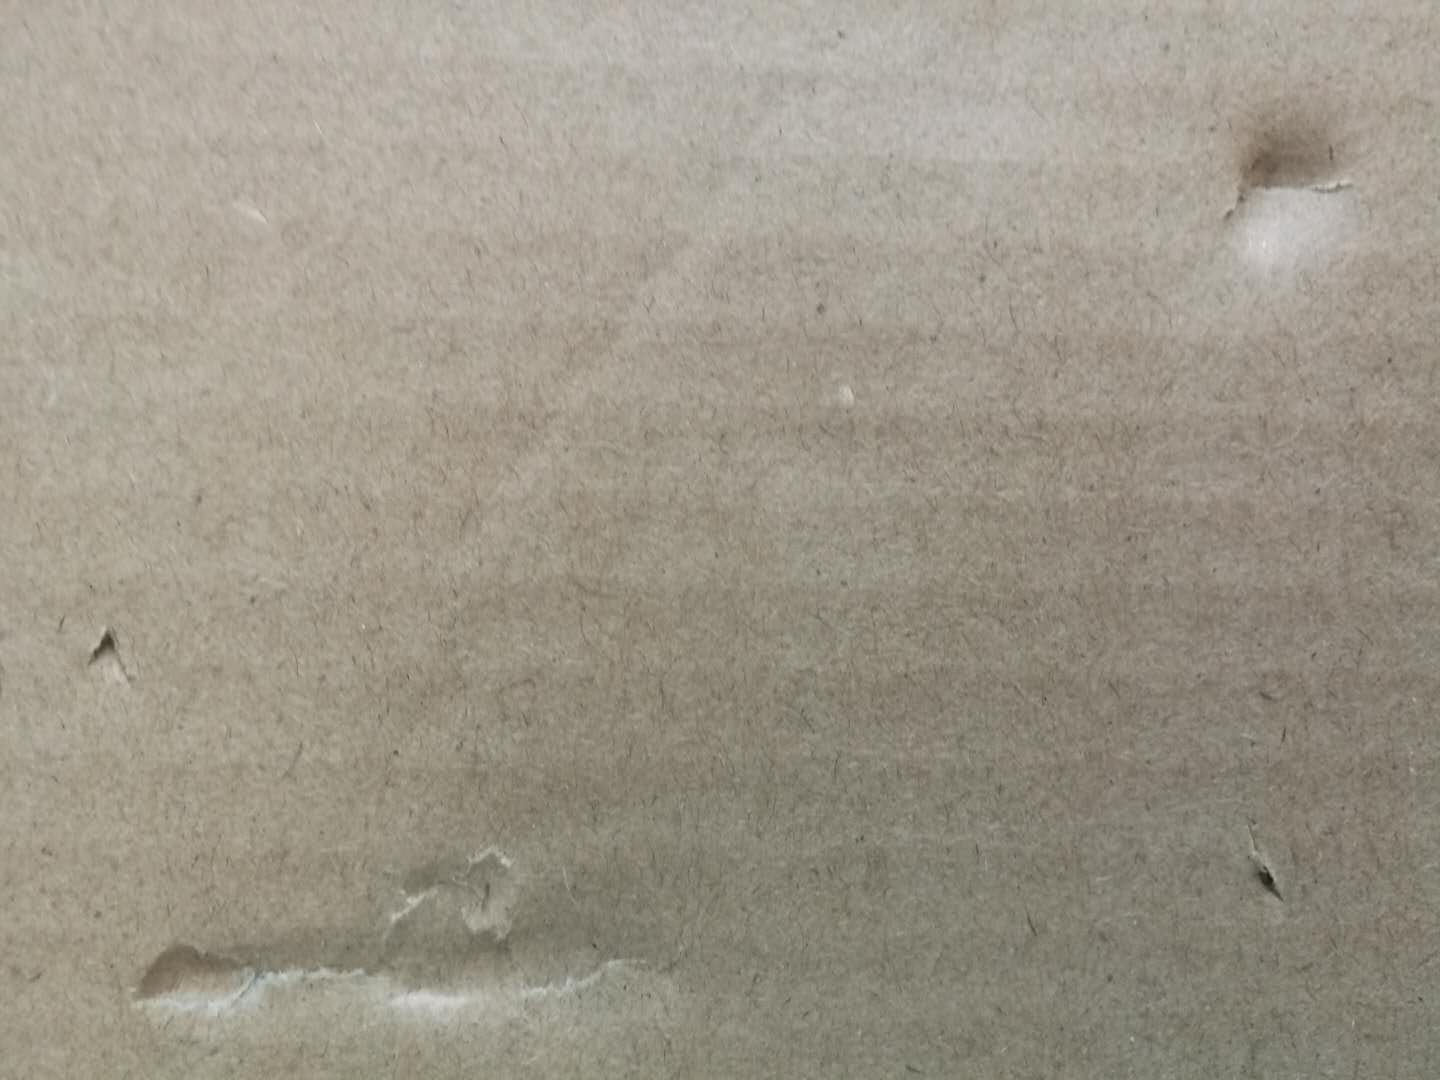defect: (405, 12, 870, 725), (103, 832, 728, 1055), (1201, 94, 1408, 281), (65, 608, 149, 702), (1231, 842, 1301, 923)
